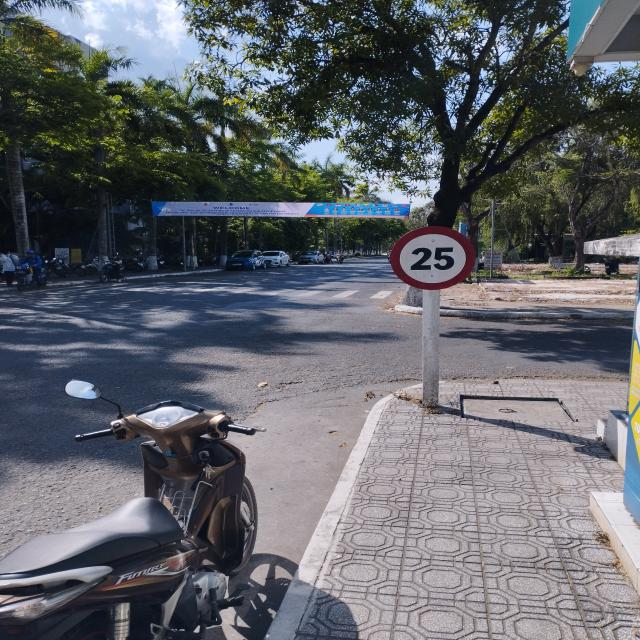Tre_Em: (388, 226, 477, 291)
